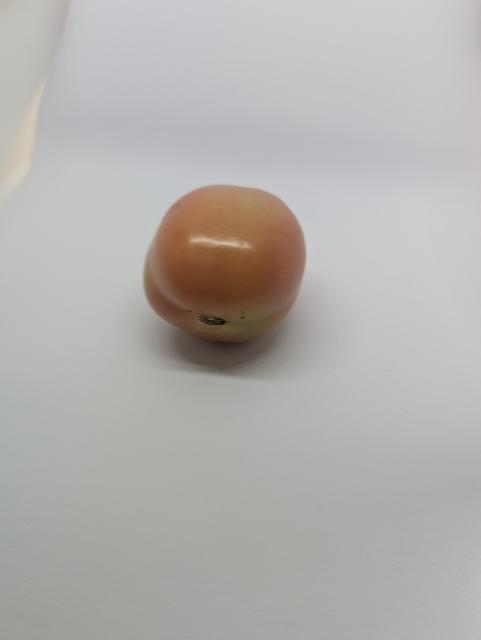turning: (118, 162, 316, 357)
